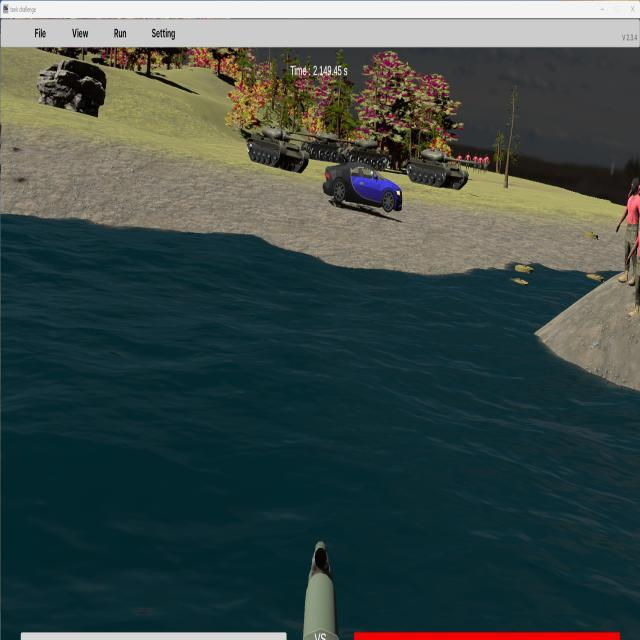Human: (616, 177, 640, 282), (624, 197, 640, 322), (625, 217, 640, 320), (627, 210, 640, 316)
Tank: (246, 123, 312, 174), (405, 148, 485, 190), (298, 132, 357, 164), (334, 137, 391, 170)
car: (323, 164, 402, 215)
